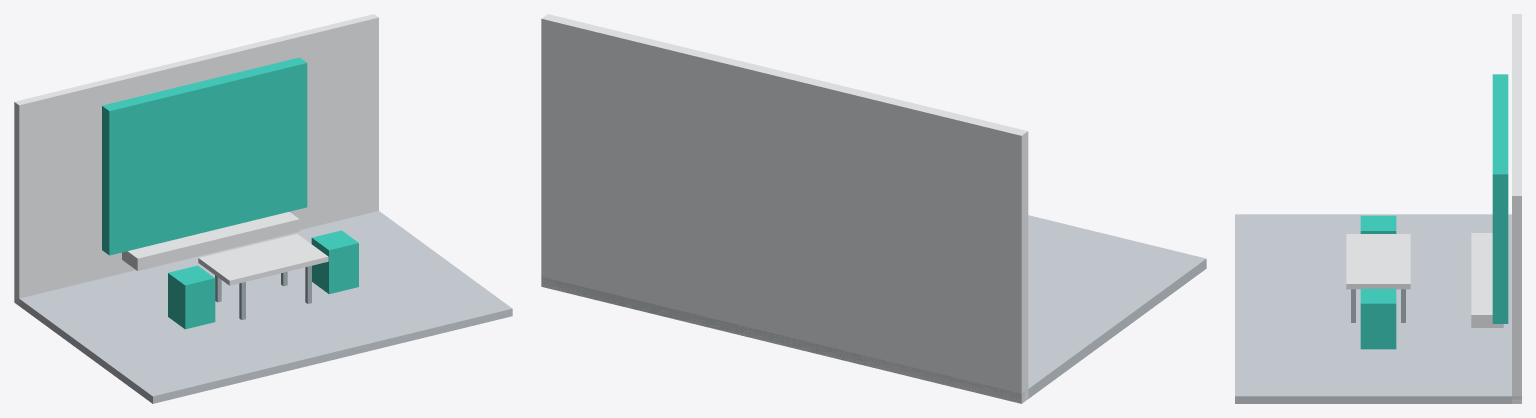
The picture shows the model from 3 angles, left to right: view 1: azimuth 30°, elevation 25°; view 2: azimuth 150°, elevation 25°; view 3: azimuth 270°, elevation 25°; orthographic projection. The views are drawn at different scales.
Visible parts, largest first — view 1: Exhibition Booth Concept; view 2: Exhibition Booth Concept; view 3: Exhibition Booth Concept.
Boxes of the visible parts, x1,y1,x2,y2 form: Exhibition Booth Concept: (14,14,512,403); Exhibition Booth Concept: (541,14,1206,403); Exhibition Booth Concept: (1235,14,1521,403).
Bounding box in the file's own units: 6 × 3.2 × 4.
